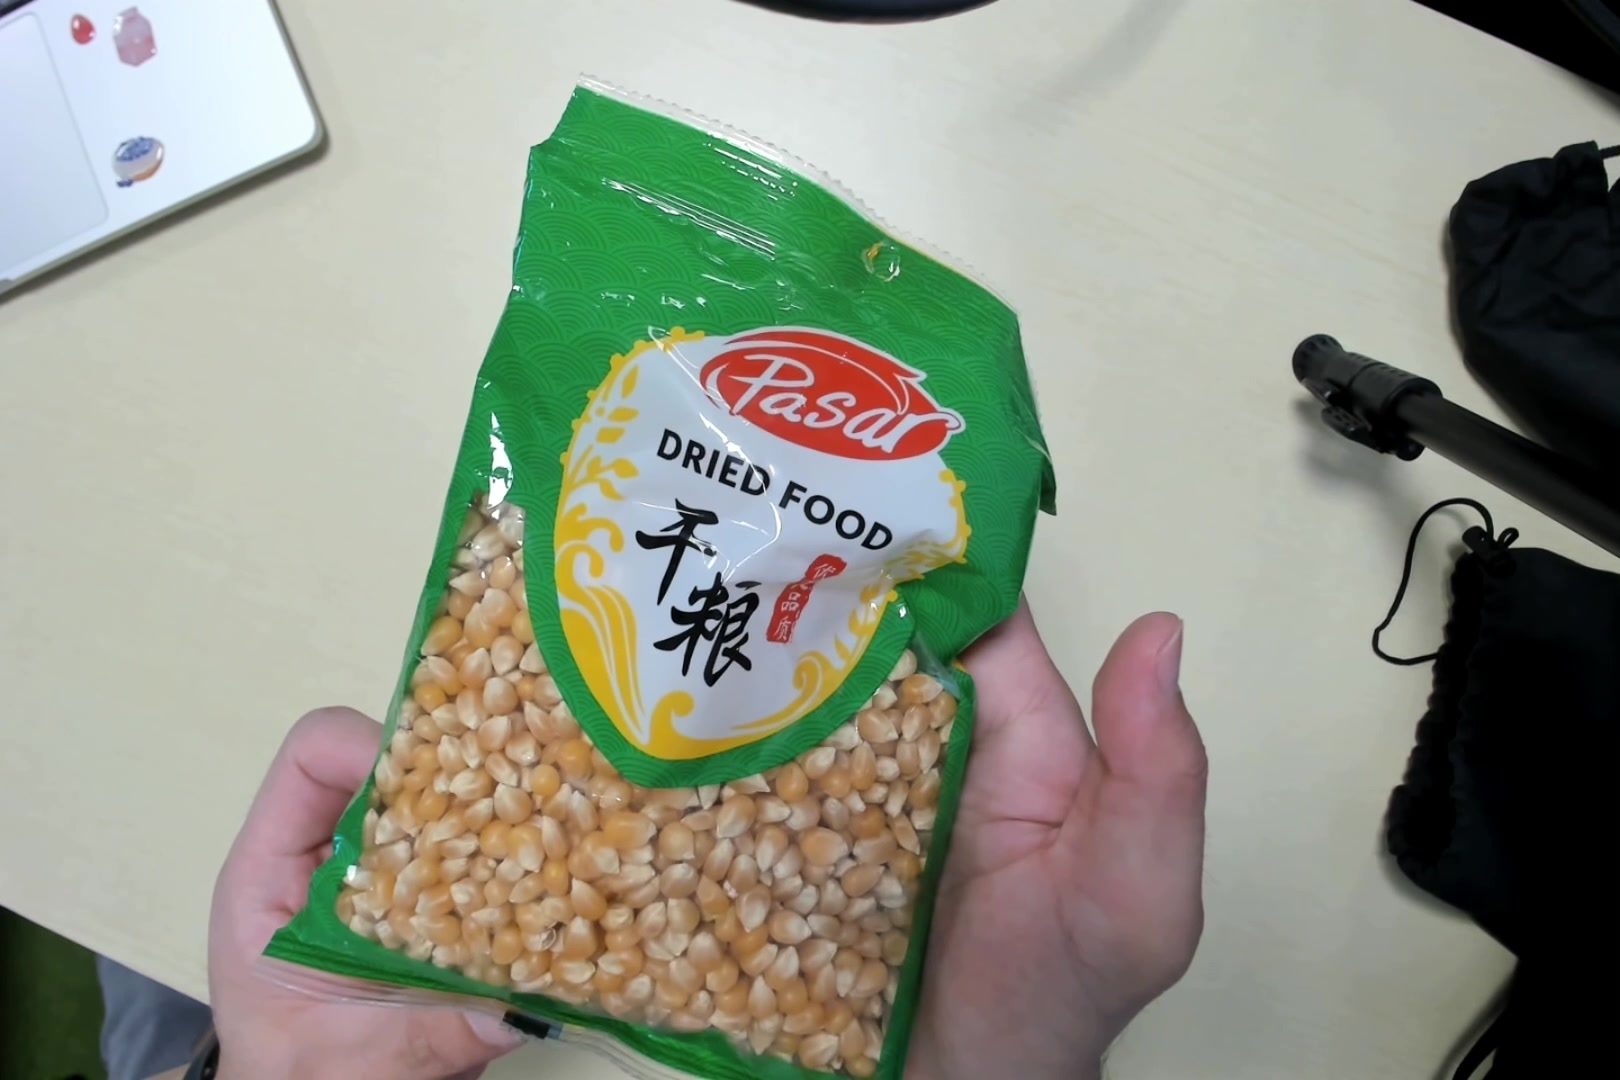DriedBeans(RedGreenSdy)_400-499g_NonHalal_NonHealthy: (297, 58, 1064, 1080)
